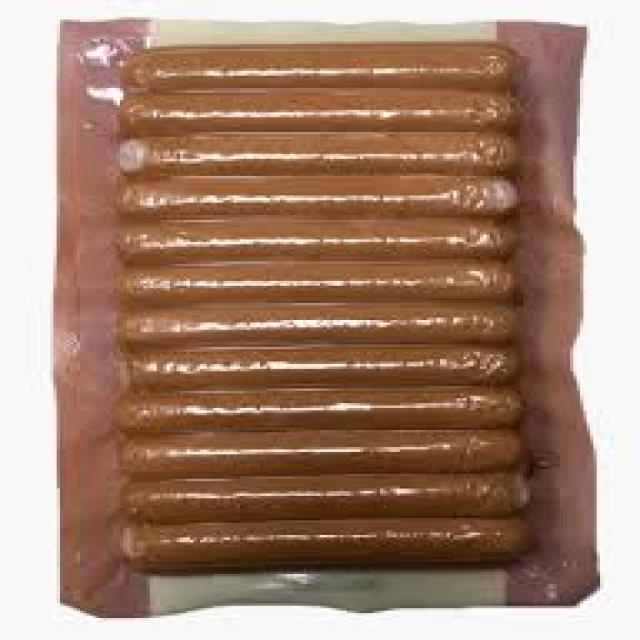Sausage/Hot Dog Link: (101, 336, 538, 581), (100, 178, 530, 381), (107, 32, 530, 225)
